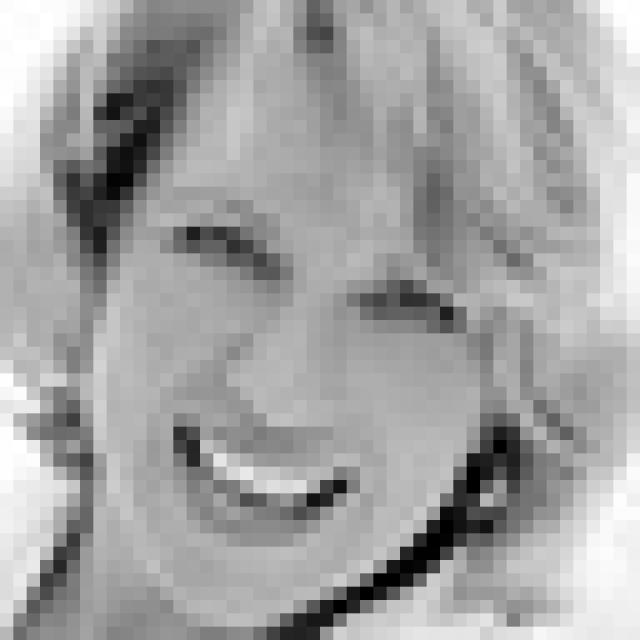happy: (148, 182, 475, 560)
